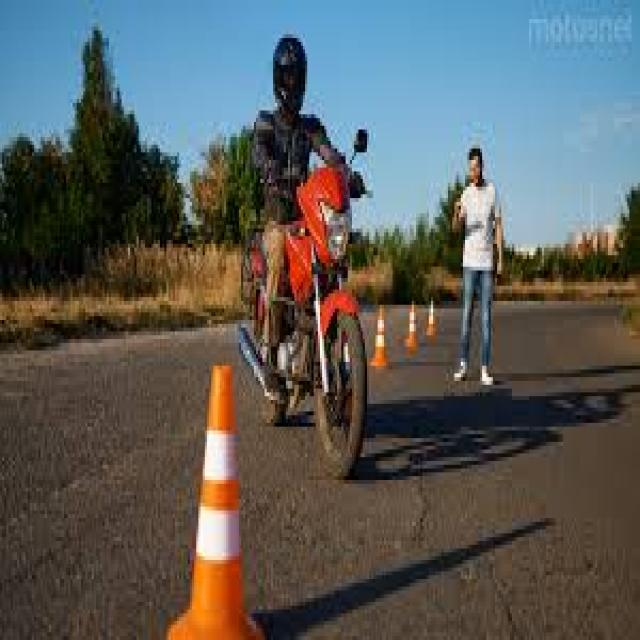MOTORCYCLE: (246, 164, 366, 482)
